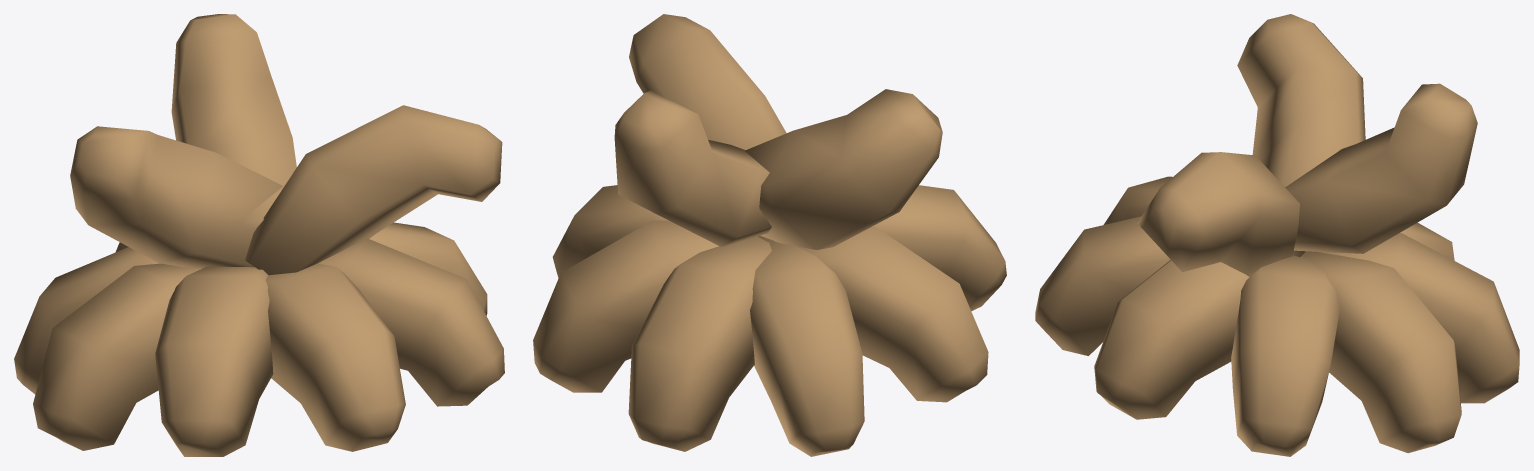
File: Hats.fbx
3 renders of one model, left to right at view 1: azimuth 30°, elevation 25°; view 2: azimuth 150°, elevation 25°; view 3: azimuth 270°, elevation 25°, orthographic. The views are drawn at different scales.
Visible parts, largest first — view 1: Cube.004; view 2: Cube.004; view 3: Cube.004.
Boxes of the visible parts, box(x1,y1,x2,y2) form: Cube.004: box(14, 14, 504, 456); Cube.004: box(533, 14, 1006, 456); Cube.004: box(1035, 14, 1519, 456).
Size of the model in its own units: 231 by 169 by 230.
